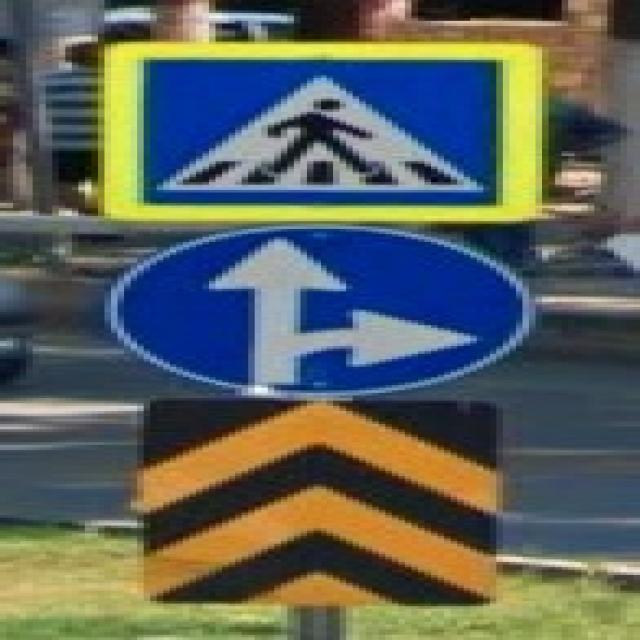Straight or Right: (102, 226, 533, 395)
